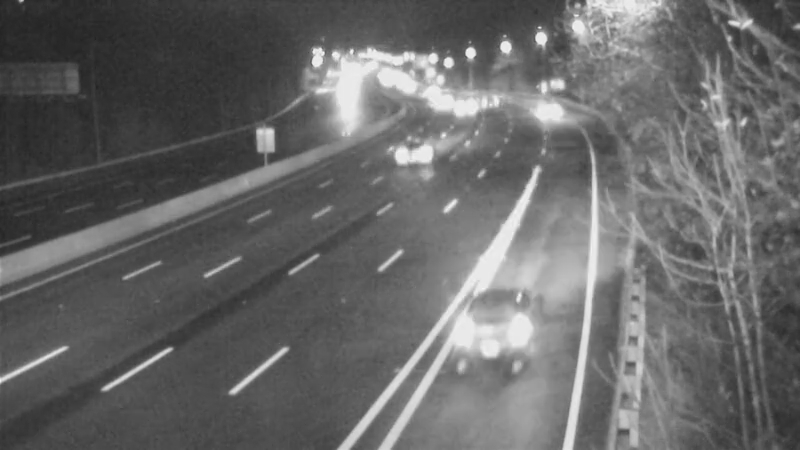vehicle: (432, 278, 542, 388), (398, 67, 448, 117), (414, 79, 464, 129), (467, 77, 517, 127), (519, 81, 569, 131), (435, 81, 485, 131), (390, 124, 440, 174)
